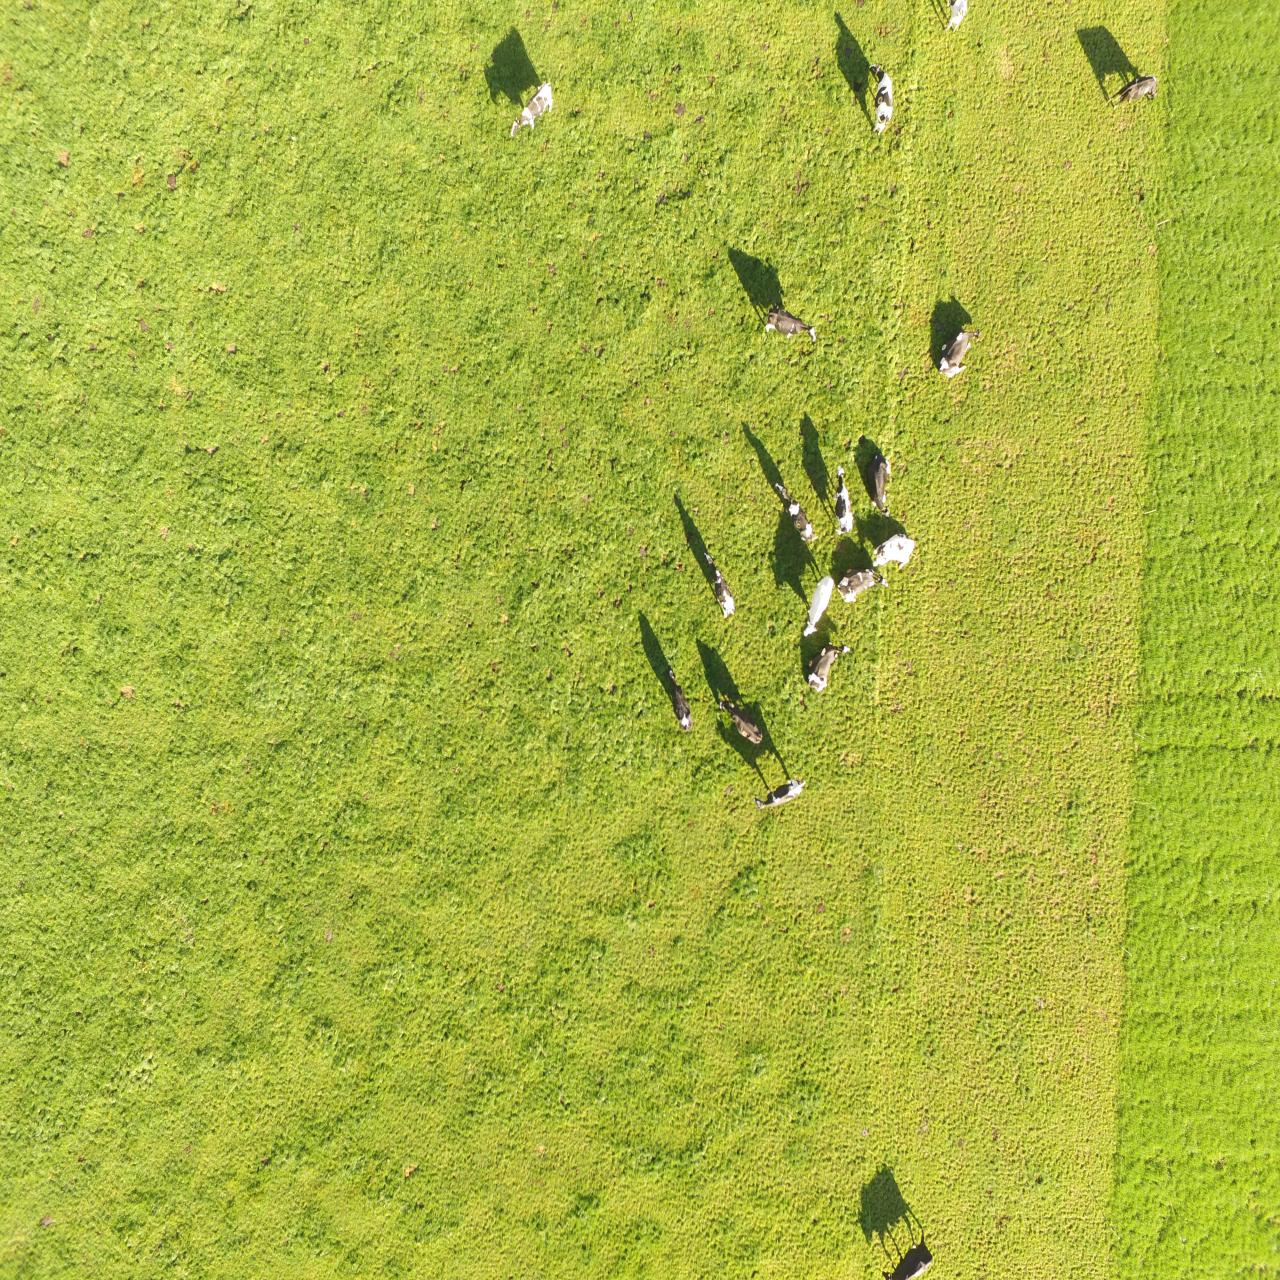cow: (927, 326, 985, 379), (771, 482, 819, 542), (508, 80, 553, 137), (701, 550, 737, 615), (717, 695, 764, 745), (764, 302, 817, 347), (803, 645, 851, 693), (665, 662, 694, 740), (866, 59, 893, 136), (755, 775, 806, 815), (1107, 72, 1155, 109), (836, 567, 888, 601), (867, 531, 913, 570), (870, 449, 896, 517), (805, 570, 836, 626), (833, 464, 856, 533)
